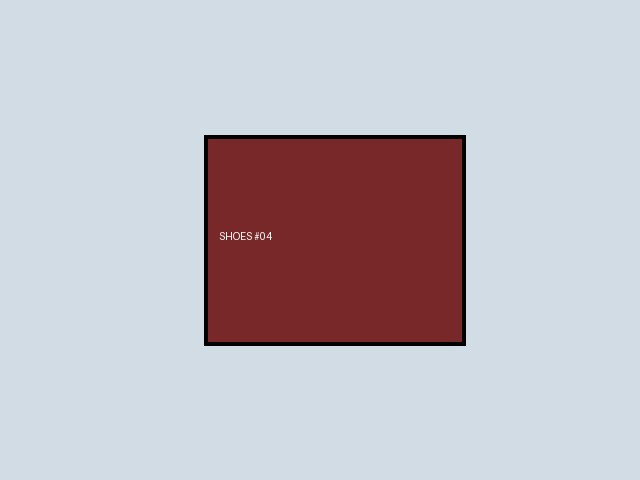shoes: (204, 135, 465, 345)
